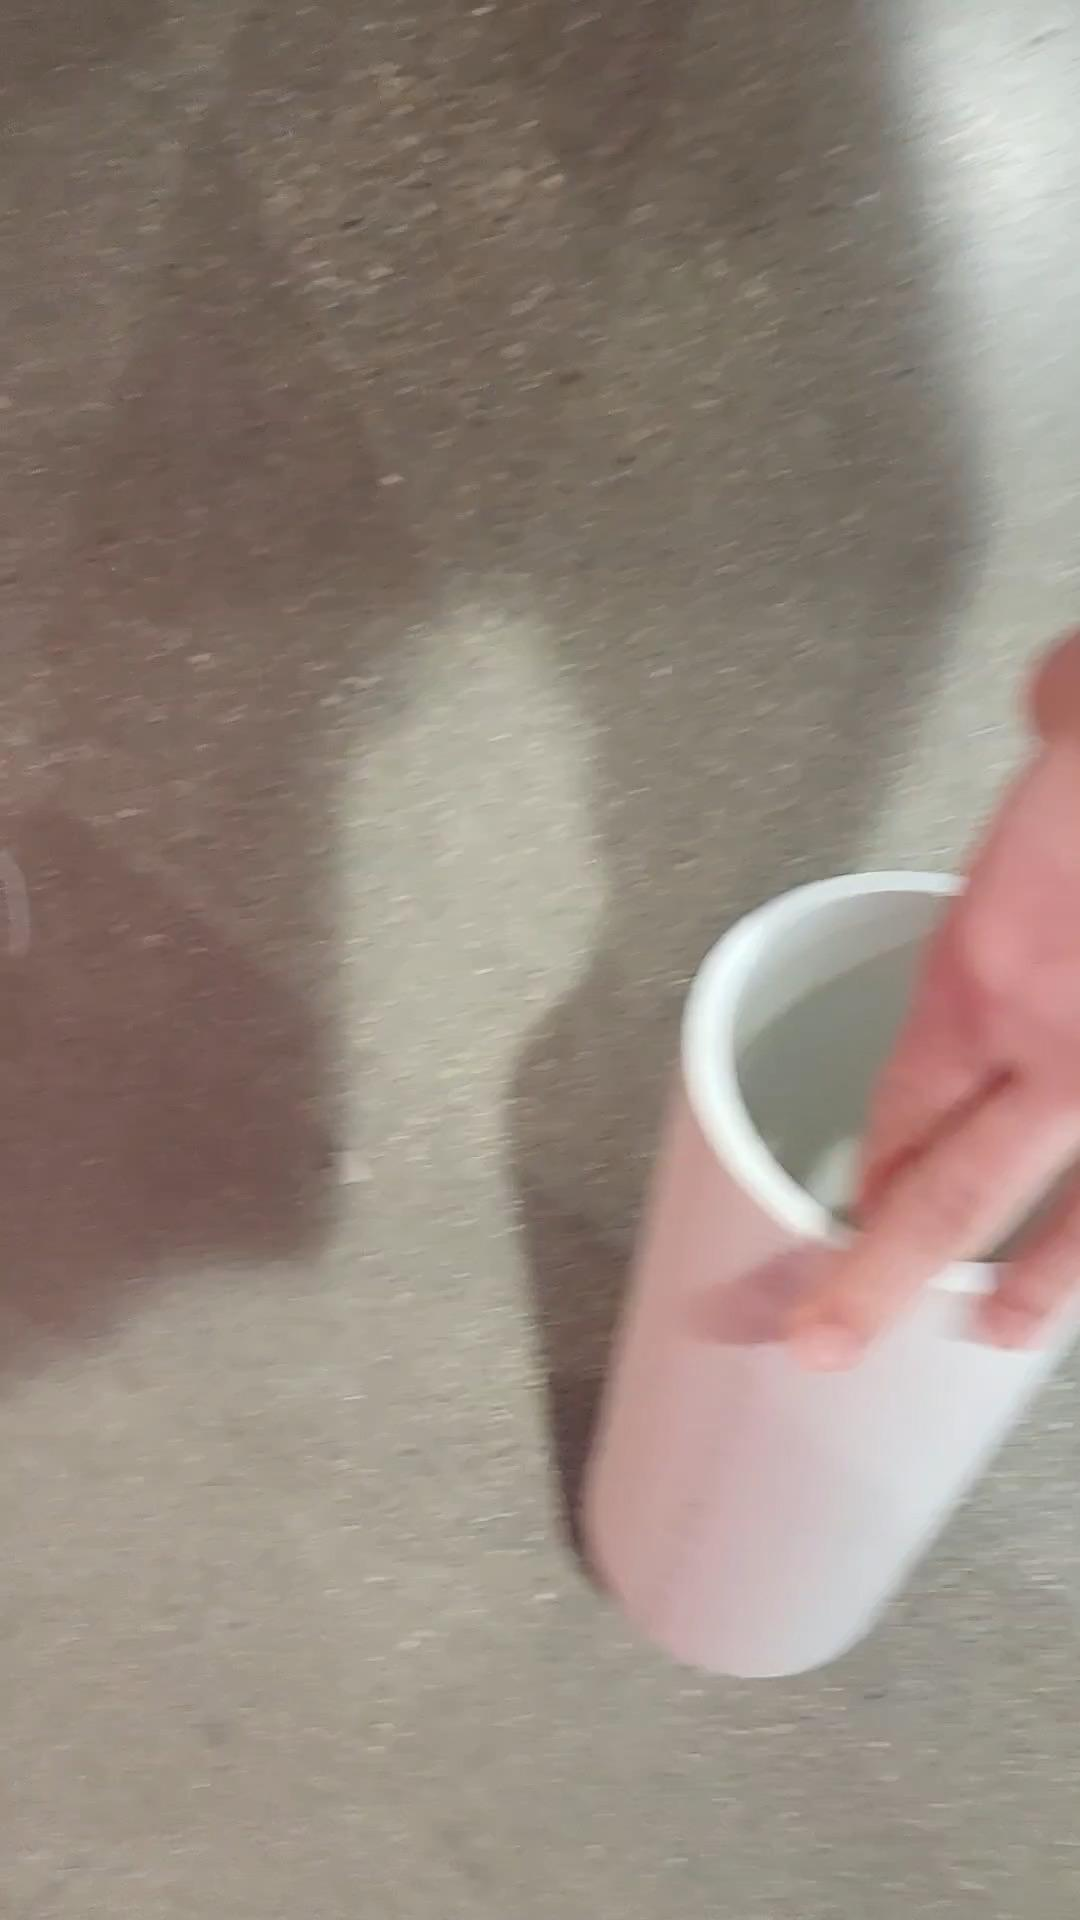coral: (585, 870, 1080, 1685)
